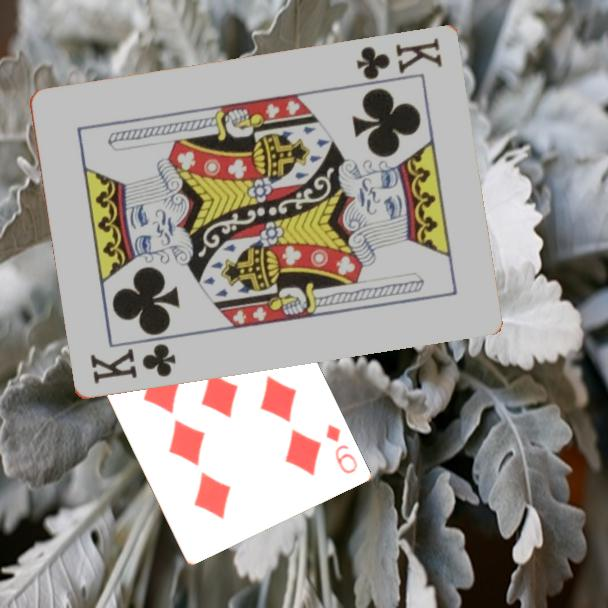c13: (352, 35, 445, 84), (86, 340, 179, 387)
d09: (322, 420, 360, 477)
